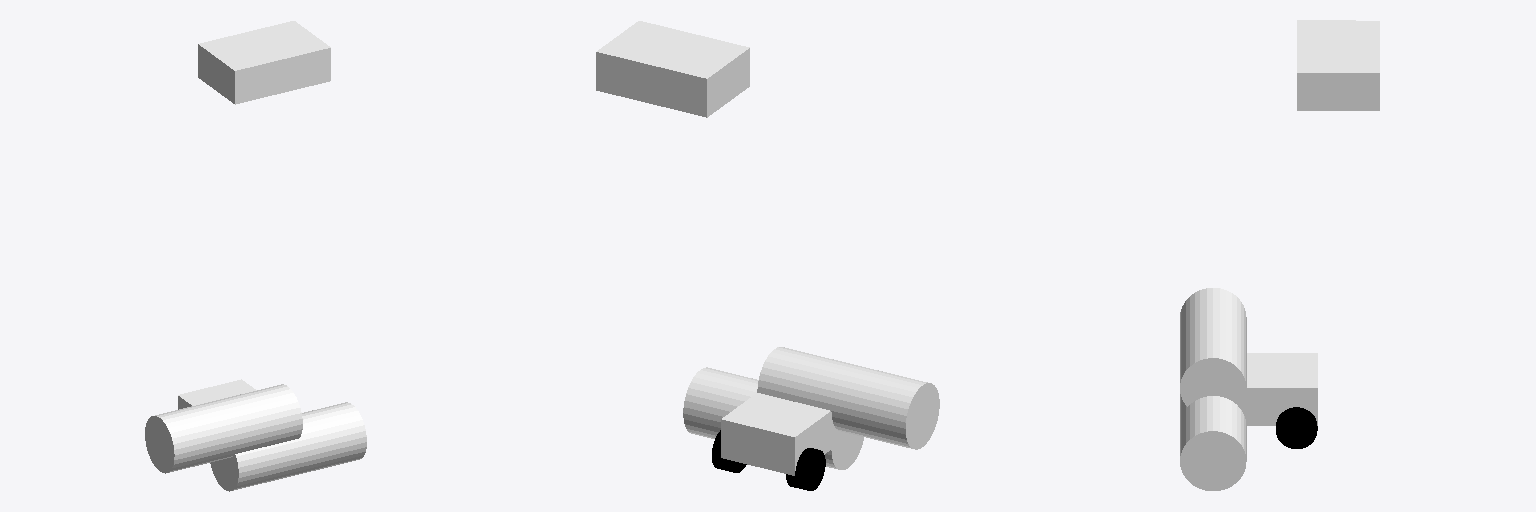
robot.urdf — car:
<!-- 
    需求: 长方体

 -->


<robot name="car">     
    <link name="base_link">
           <visual>
                 <geometry>
                       <box size="0.2 .3 .1"/>
                 </geometry>
            <origin rpy="0 0 0" xyz="0 0 0.05"/>
            <material name="white">
                <color rgba="1 1 1 1"/>
            </material>
           </visual>     
     </link>

     <link name="wheel_1">
           <visual>
                 <geometry>
                       <cylinder length="0.05" radius="0.05"/>
                 </geometry>
            <origin rpy="0 1.57 0" xyz="0.1 0.1 0"/>
               <material name="black">
                <color rgba="0 0 0 1"/>
            </material>
        </visual>
     </link>

     <link name="wheel_2">
           <visual>
                 <geometry>
                       <cylinder length="0.05" radius="0.05"/>
                 </geometry>
            <origin rpy="0 1.57 0" xyz="-0.1 0.1 0"/>
               <material name="black"/>
           </visual>
     </link>

     <link name="wheel_3">
           <visual>
                 <geometry>
                       <cylinder length="0.4" radius="0.08"/>
                 </geometry>
            <origin rpy="0 1.57 0" xyz="0.1 -0.1 0"/>
               <material name="white"/>
           </visual>
     </link>

     <link name="wheel_4">
           <visual>
                 <geometry>
                       <cylinder length="0.4" radius="0.08"/>
                 </geometry>
            <origin rpy="0 1.57 0" xyz="-0.1 -0.1 0.1"/>
               <material name="white"/>
           </visual>
     </link>
     
     <link name="ball">
           <visual>
                 <geometry>
                       <box size="0.2 .3 .1"/>
                 </geometry>
            <origin rpy="0 0 1.57 " xyz="0.2 0.2 1"/>
               <material name="white"/>
           </visual>
     </link>

     <joint name="base_to_wheel1" type="fixed">
           <parent link="base_link"/>
           <child link="wheel_1"/>
           <origin xyz="0 0 0"/>
     </joint>

     <joint name="base_to_wheel2" type="fixed">
           <parent link="base_link"/>
           <child link="wheel_2"/>
           <origin xyz="0 0 0"/>
     </joint>

     <joint name="base_to_wheel3" type="fixed">
           <parent link="base_link"/>
           <child link="wheel_3"/>
           <origin xyz="0 0 0"/>
     </joint>

     <joint name="base_to_wheel4" type="fixed">
           <parent link="base_link"/>
           <child link="wheel_4"/>
           <origin xyz="0 0 0"/>
     </joint>
     
     <joint name="wheel_to_ball" type="fixed">
           <parent link="wheel_1"/>
           <child link="ball"/>
           <origin xyz="0 0 0"/>
     </joint>
</robot>

--- What the picture shows (computed from the rendered views, not written in the file) ---
Views: 3 orthographic renders of the robot side by side, from view 1: azimuth 30°, elevation 25°; view 2: azimuth 150°, elevation 25°; view 3: azimuth 270°, elevation 25°.
Model car with 6 links and 5 joints (5 fixed), rooted at base_link, posed all joints at 0.
Visible links, largest first — view 1: wheel_4, ball, wheel_3, base_link; view 2: wheel_4, ball, base_link, wheel_3, wheel_2; view 3: ball, wheel_4, wheel_3, base_link, wheel_1.
Boxes of the visible links, x1,y1,x2,y2 form: wheel_4: [145, 384, 302, 473]; ball: [198, 21, 330, 104]; wheel_3: [210, 402, 366, 491]; base_link: [178, 379, 256, 409]; wheel_4: [757, 347, 939, 449]; ball: [596, 21, 749, 117]; base_link: [721, 393, 834, 475]; wheel_3: [683, 367, 863, 469]; wheel_2: [786, 448, 825, 490]; ball: [1297, 20, 1379, 110]; wheel_4: [1180, 288, 1246, 406]; wheel_3: [1180, 394, 1246, 490]; base_link: [1239, 353, 1317, 425]; wheel_1: [1276, 407, 1317, 448].
Bounding box of the posed robot: 0.6501 × 0.4801 × 1.13 m (x, y, z).
Geometry: primitives only (box / cylinder / sphere), no mesh files.
